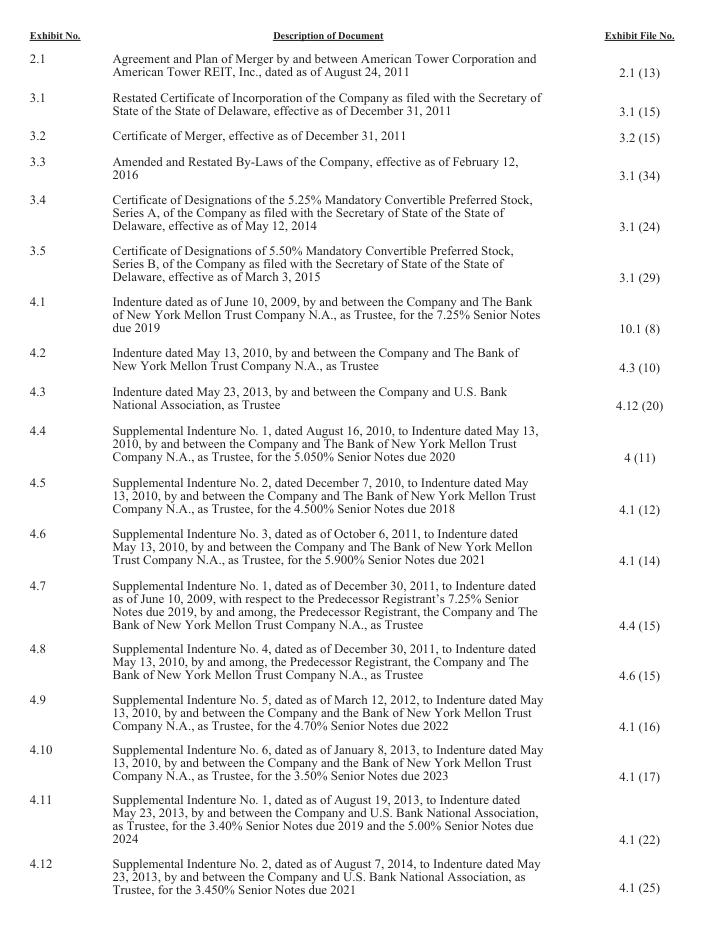table: (28, 28, 673, 895)
table column: (95, 28, 573, 895), (573, 28, 673, 895), (28, 28, 95, 895)
table column header: (28, 28, 673, 45)
table row: (28, 572, 673, 636), (28, 787, 673, 850), (28, 468, 673, 520), (28, 520, 673, 572), (28, 186, 673, 237), (28, 237, 673, 288), (28, 288, 673, 339), (28, 417, 673, 468), (28, 686, 673, 737), (28, 636, 673, 686), (28, 737, 673, 787), (28, 850, 673, 895), (28, 83, 673, 122), (28, 339, 673, 378), (28, 378, 673, 417), (28, 45, 673, 83), (28, 148, 673, 186), (28, 122, 673, 148), (28, 28, 673, 45)
